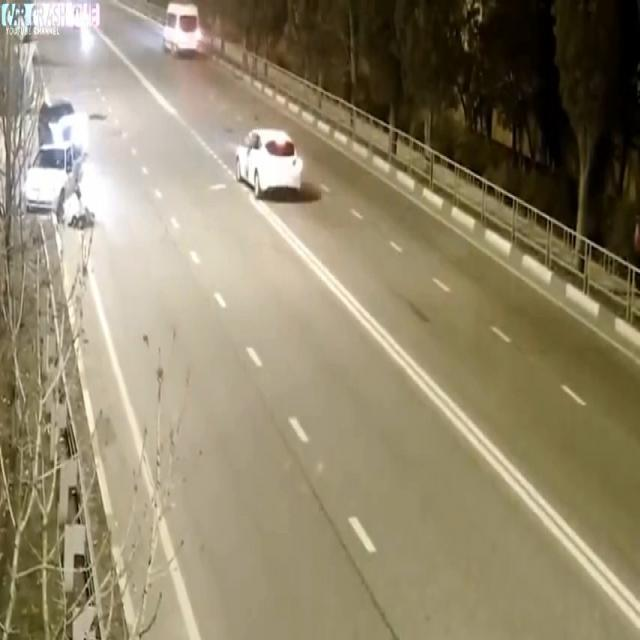Accident: (24, 84, 85, 260)
